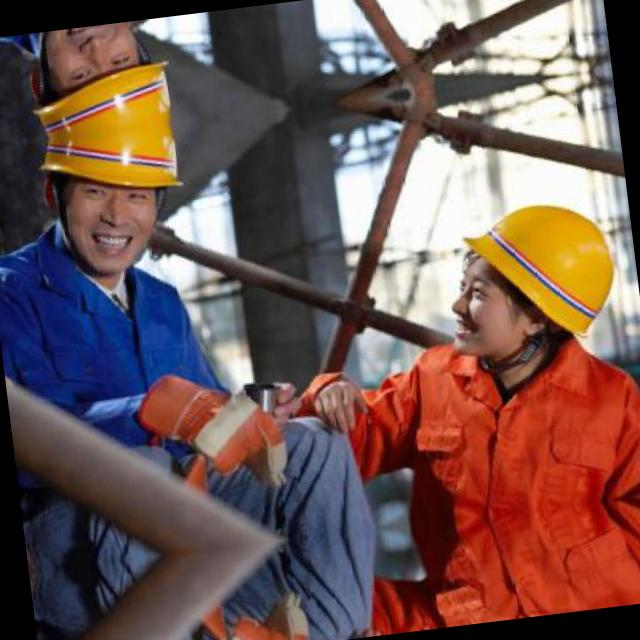helmet: (424, 169, 640, 395), (23, 121, 195, 288), (10, 17, 178, 142)
